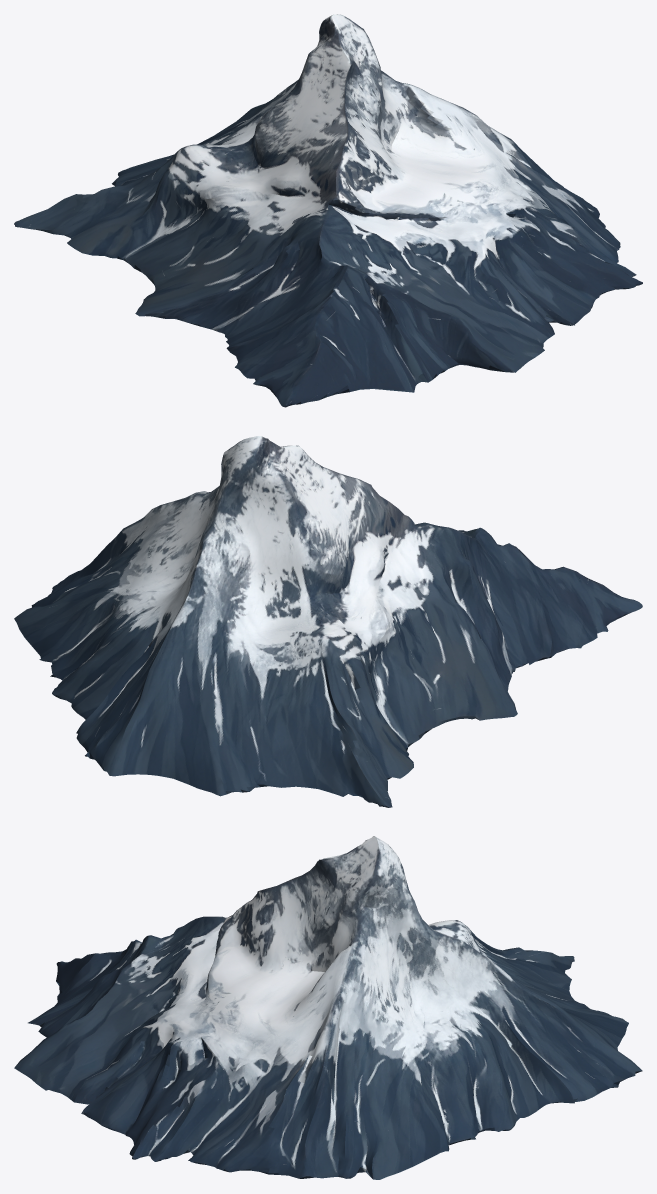
Rendered from meadows_hero_summit.glb.
3 views of the same model, one above another, from view 1: azimuth 30°, elevation 25°; view 2: azimuth 150°, elevation 25°; view 3: azimuth 270°, elevation 25° (orthographic). The views are drawn at different scales.
Visible parts, largest first — view 1: Mesh_0; view 2: Mesh_0; view 3: Mesh_0.
Boxes of the visible parts, x1,y1,x2,y2 form: Mesh_0: [14, 14, 642, 407]; Mesh_0: [14, 436, 642, 807]; Mesh_0: [14, 836, 642, 1179].
Size of the model in its own units: 1860 by 900 by 2219.
1 material, 1 textured.
